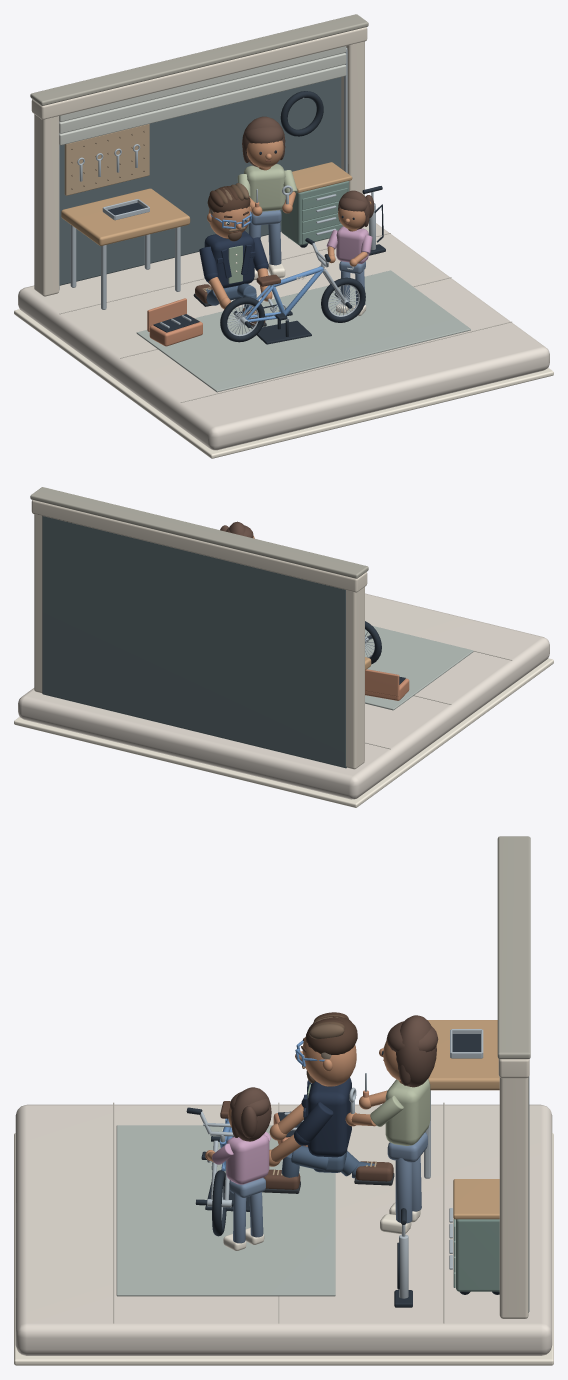
Rendered from family.glb.
3 renders of one model, top to bottom at view 1: azimuth 30°, elevation 25°; view 2: azimuth 150°, elevation 25°; view 3: azimuth 270°, elevation 25°, orthographic. The views are drawn at different scales.
Visible parts, largest first — view 1: Square floating plinth, Garage interior, Bicycle repair mat, Garage top trim, Garage lintel, Garage pier, Ivory lower edge, Pegboard panel, Oak desktop, Raised garage slat, Raised garage slat.001, Garage pier.001 (+15 smaller); view 2: Garage interior, Square floating plinth, Garage top trim, Garage lintel, Ivory lower edge, Bicycle repair mat, Garage pier, Garage pier.001, Toolbox lid; view 3: Square floating plinth, Bicycle repair mat, Garage top trim, Garage pier.001, Ivory lower edge, Oak desktop, Cabinet body, Jacket body, Soft sweater.001, Worktop, Hair back.001, Soft sweater (+9 smaller).
Part boxes in pixels (left/top/right/bottom): Square floating plinth: left=18, top=223, right=549, bottom=450; Garage interior: left=59, top=77, right=341, bottom=285; Bicycle repair mat: left=136, top=270, right=470, bottom=392; Garage top trim: left=30, top=14, right=368, bottom=105; Garage lintel: left=31, top=27, right=367, bottom=119; Garage pier: left=34, top=114, right=59, bottom=296; Ivory lower edge: left=14, top=309, right=553, bottom=458; Pegboard panel: left=64, top=124, right=149, bottom=195; Oak desktop: left=61, top=188, right=190, bottom=245; Raised garage slat: left=59, top=64, right=346, bottom=145; Raised garage slat.001: left=59, top=53, right=346, bottom=133; Garage pier.001: left=341, top=41, right=364, bottom=195; Garage interior: left=42, top=516, right=346, bottom=768; Square floating plinth: left=18, top=593, right=549, bottom=799; Garage top trim: left=30, top=487, right=368, bottom=578; Garage lintel: left=31, top=500, right=367, bottom=592; Ivory lower edge: left=14, top=658, right=553, bottom=807; Bicycle repair mat: left=365, top=626, right=473, bottom=710; Garage pier: left=346, top=587, right=364, bottom=769; Garage pier.001: left=34, top=514, right=42, bottom=693; Toolbox lid: left=365, top=669, right=399, bottom=696; Square floating plinth: left=15, top=1104, right=552, bottom=1355; Bicycle repair mat: left=116, top=1125, right=335, bottom=1296; Garage top trim: left=497, top=836, right=530, bottom=1059; Garage pier.001: left=499, top=1077, right=528, bottom=1318; Ivory lower edge: left=14, top=1133, right=553, bottom=1365; Oak desktop: left=427, top=1020, right=499, bottom=1090; Cabinet body: left=456, top=1219, right=499, bottom=1291; Jacket body: left=307, top=1077, right=351, bottom=1157; Soft sweater.001: left=385, top=1079, right=430, bottom=1145; Worktop: left=453, top=1179, right=499, bottom=1219; Hair back.001: left=396, top=1015, right=436, bottom=1087; Soft sweater: left=226, top=1134, right=269, bottom=1184.
Bounding box in the file's own units: 5.23 × 3.29 × 5.23.
